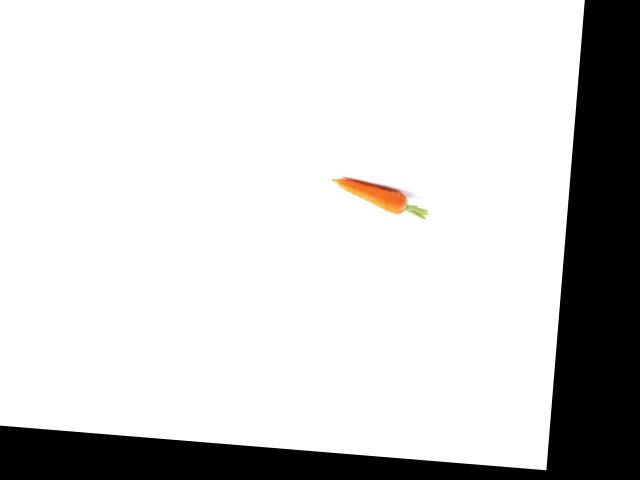carrot: (325, 169, 417, 224)
